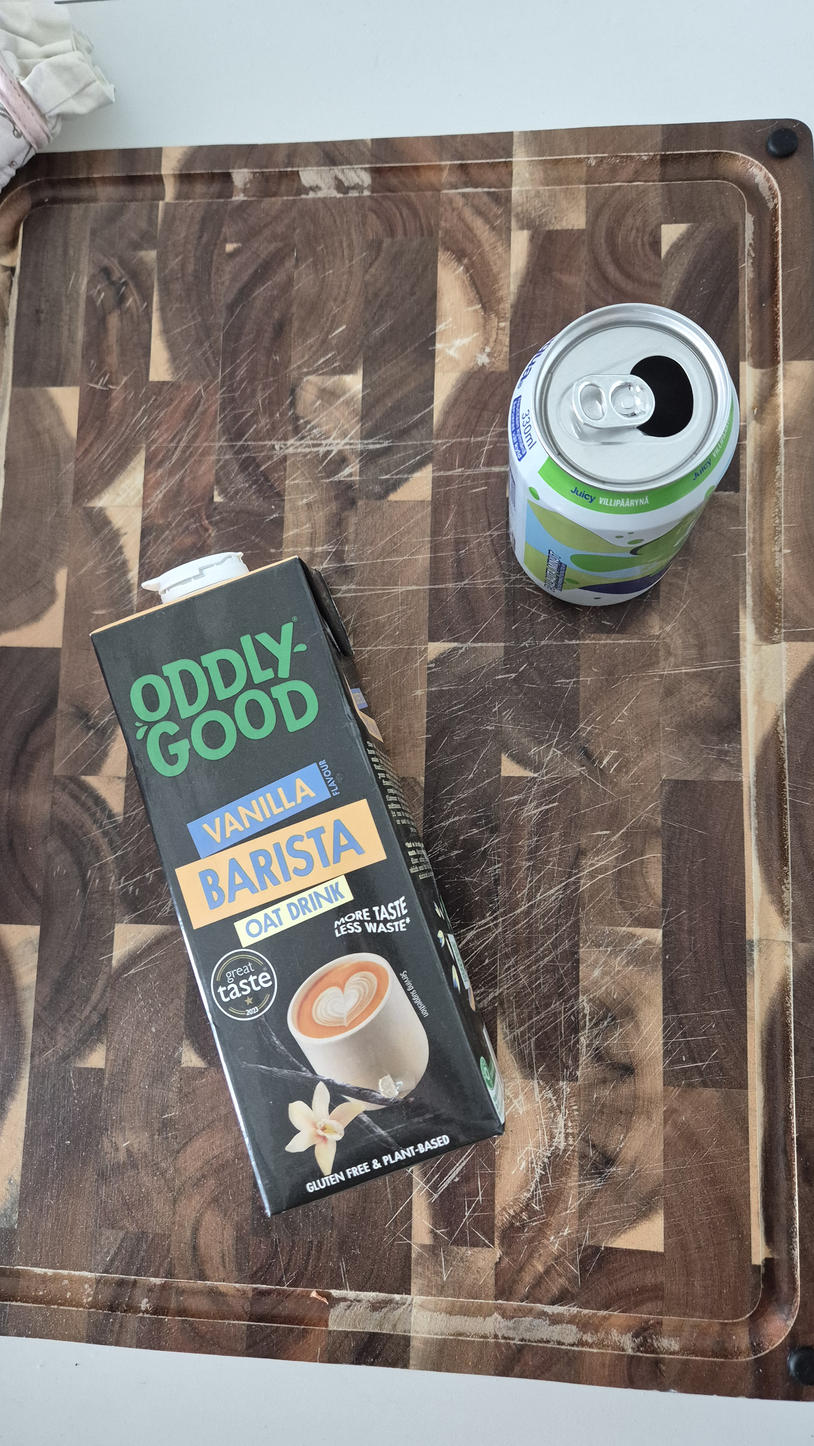Dryckeskartong: (89, 551, 506, 1217)
Pantburk: (507, 304, 739, 607)
